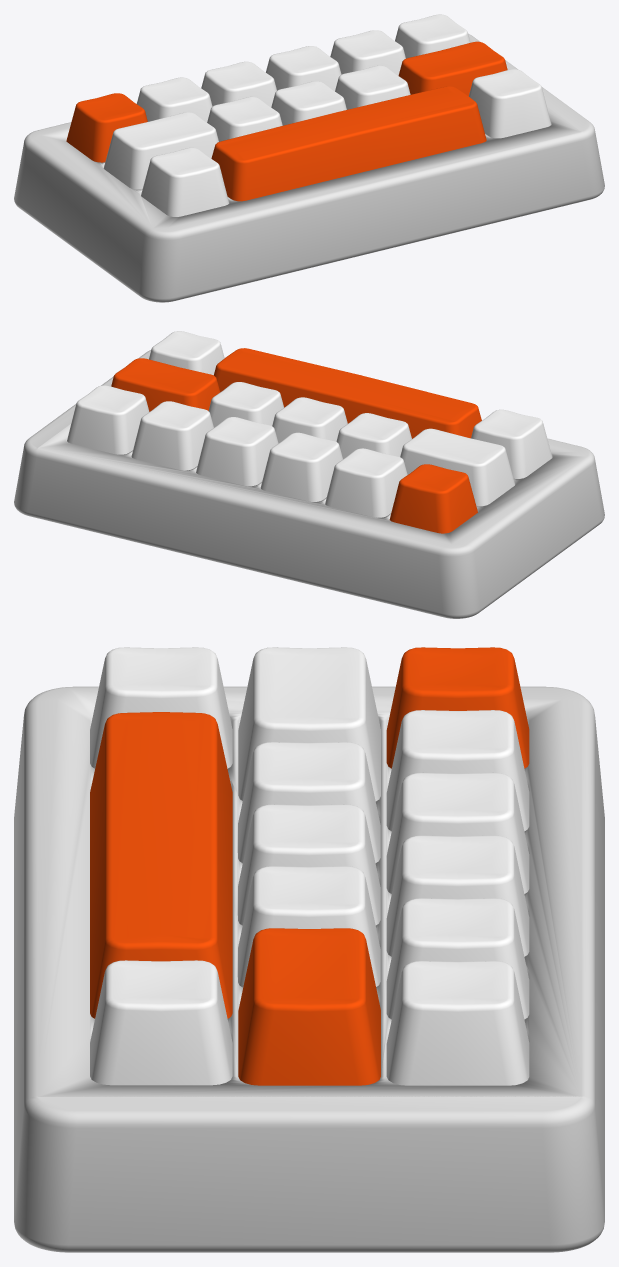
Rendered from keyboard.glb.
3 renders of one model, top to bottom at view 1: azimuth 30°, elevation 25°; view 2: azimuth 150°, elevation 25°; view 3: azimuth 270°, elevation 25°, orthographic. The views are drawn at different scales.
Visible parts, largest first — view 1: Cube, Cube.005, Cube.001; view 2: Cube, Cube.005, Cube.001; view 3: Cube, Cube.005, Cube.001.
Part boxes in pixels (left/top/right/bottom): Cube: left=14, top=34, right=604, bottom=302; Cube.005: left=103, top=14, right=551, bottom=216; Cube.001: left=66, top=41, right=507, bottom=201; Cube: left=14, top=350, right=604, bottom=618; Cube.005: left=67, top=331, right=552, bottom=517; Cube.001: left=111, top=348, right=481, bottom=533; Cube: left=14, top=686, right=604, bottom=1252; Cube.005: left=90, top=647, right=529, bottom=1085; Cube.001: left=90, top=647, right=529, bottom=1085.
Bounding box in the file's own units: 7.45 × 1.61 × 4.14.
